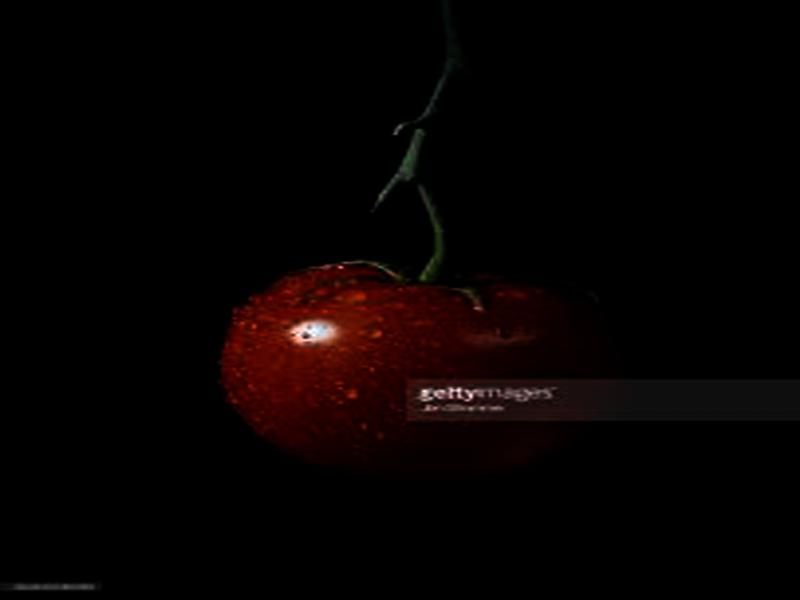Tomato: (221, 266, 611, 474)
